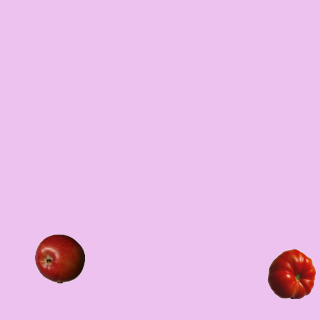Apple Braeburn: (34, 233, 84, 283)
Tomato 3: (266, 248, 316, 298)
